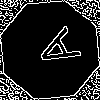A: (25, 25, 82, 77)
